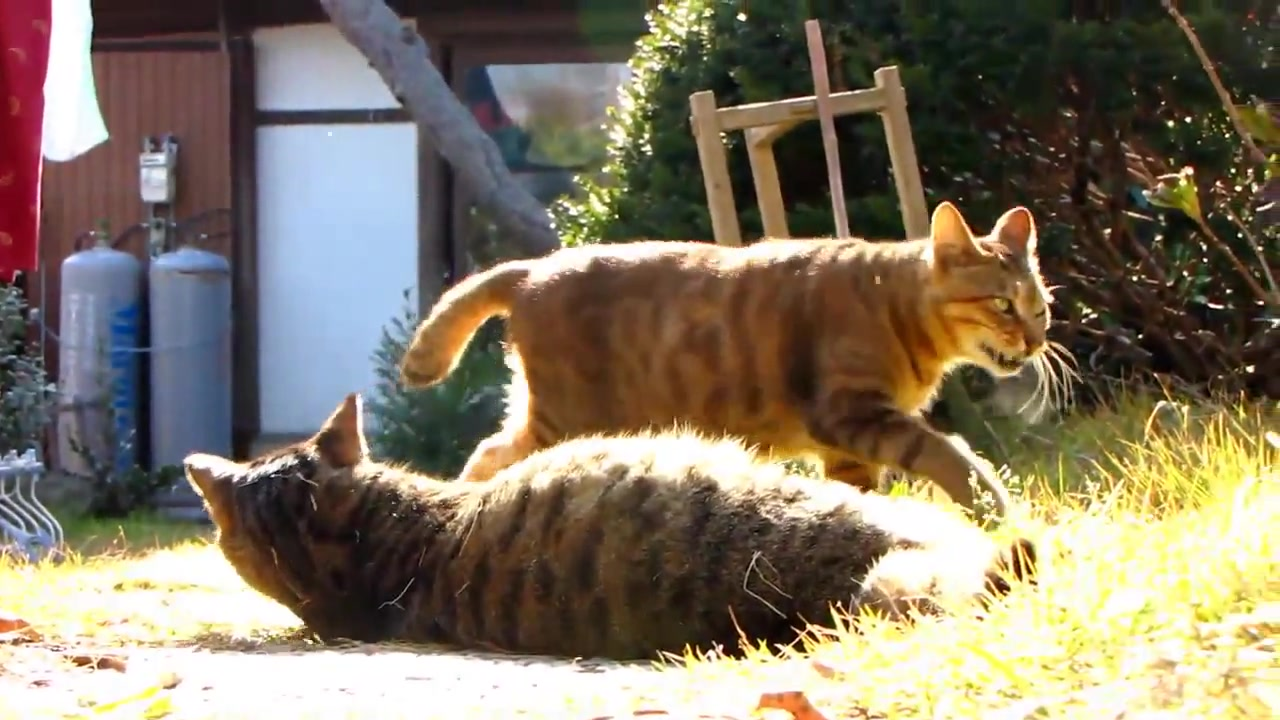cat: (181, 392, 1042, 654), (394, 204, 1082, 523)
